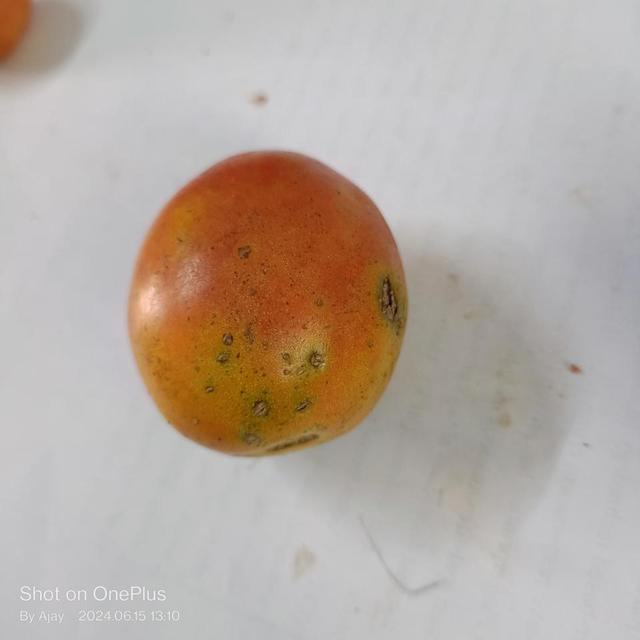Bacterial Spot Fruit: (10, 17, 258, 272)
